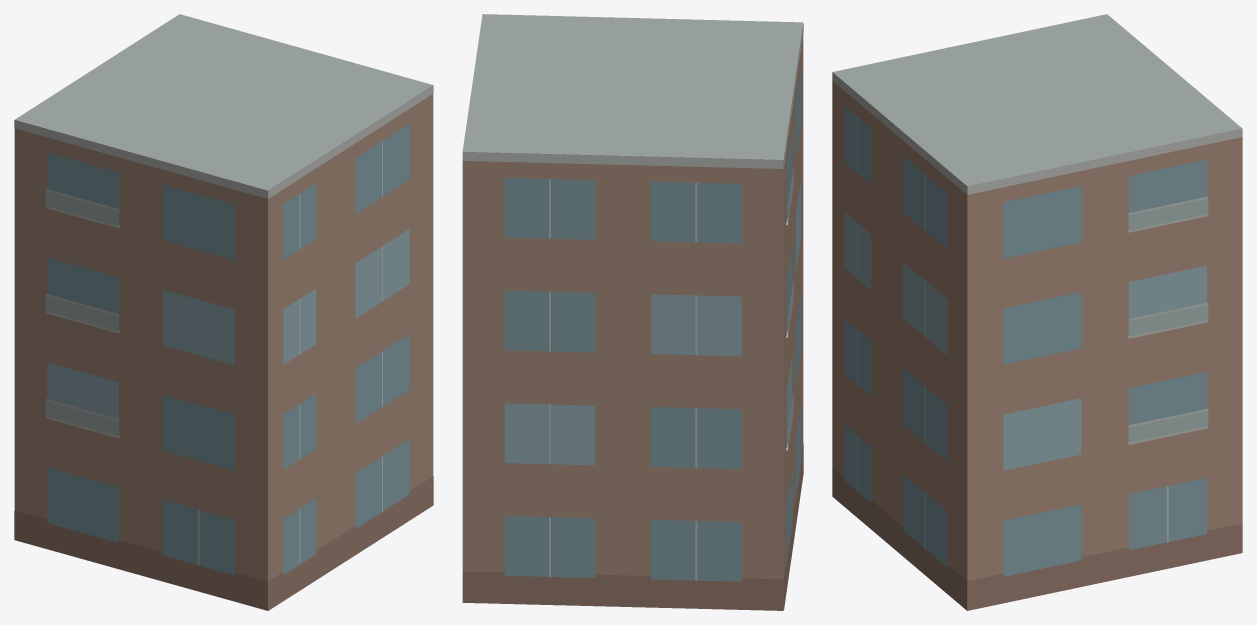
File: residential-271f9858-173a-4351-8aac-8377ef9adcdb.glb
3 renders of one model, left to right at view 1: azimuth 30°, elevation 25°; view 2: azimuth 150°, elevation 25°; view 3: azimuth 270°, elevation 25°, orthographic. The views are drawn at different scales.
Parts seen in each view (by area): view 1: residential-271f9858-173a-4351-8aac-8377ef9adcdb.tmp; view 2: residential-271f9858-173a-4351-8aac-8377ef9adcdb.tmp; view 3: residential-271f9858-173a-4351-8aac-8377ef9adcdb.tmp.
Boxes of the visible parts, left/top/right/bottom form: residential-271f9858-173a-4351-8aac-8377ef9adcdb.tmp: left=14, top=14, right=433, bottom=610; residential-271f9858-173a-4351-8aac-8377ef9adcdb.tmp: left=462, top=14, right=803, bottom=610; residential-271f9858-173a-4351-8aac-8377ef9adcdb.tmp: left=832, top=14, right=1242, bottom=610.
Size of the model in its own units: 10.64 by 12.2 by 10.7.
